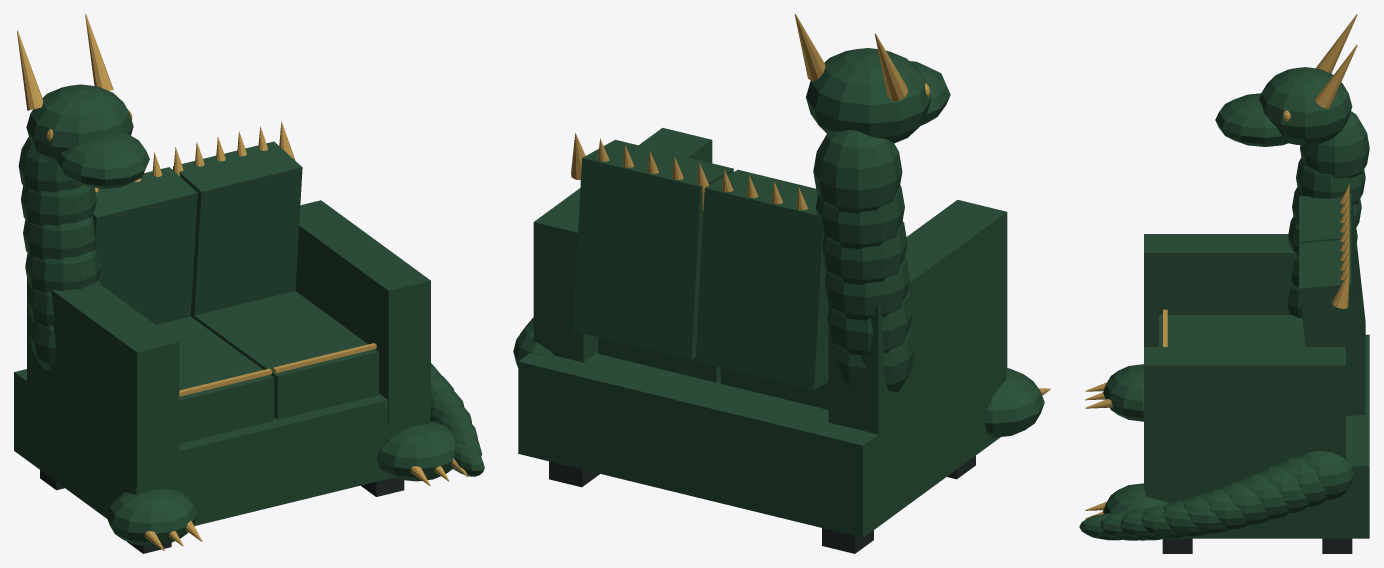
File: good.glb
3 renders of one model, left to right at view 1: azimuth 30°, elevation 25°; view 2: azimuth 150°, elevation 25°; view 3: azimuth 270°, elevation 25°, orthographic. The views are drawn at different scales.
Visible parts, largest first — view 1: Armrest, Amber eye, Sofa foot; view 2: Armrest, Amber eye, Sofa foot; view 3: Armrest, Amber eye, Sofa foot.
Part boxes in pixels (x1=…): Armrest: x1=14, y1=84, x2=484, y2=546; Amber eye: x1=17, y1=14, x2=467, y2=550; Sofa foot: x1=40, y1=470, x2=404, y2=553; Armrest: x1=513, y1=48, x2=1044, y2=537; Amber eye: x1=571, y1=14, x2=1050, y2=395; Sofa foot: x1=549, y1=455, x2=975, y2=553; Armrest: x1=1079, y1=67, x2=1369, y2=540; Amber eye: x1=1085, y1=14, x2=1357, y2=519; Sofa foot: x1=1162, y1=538, x2=1352, y2=553.
Size of the model in its own units: 1.27 by 1.46 by 0.932.
